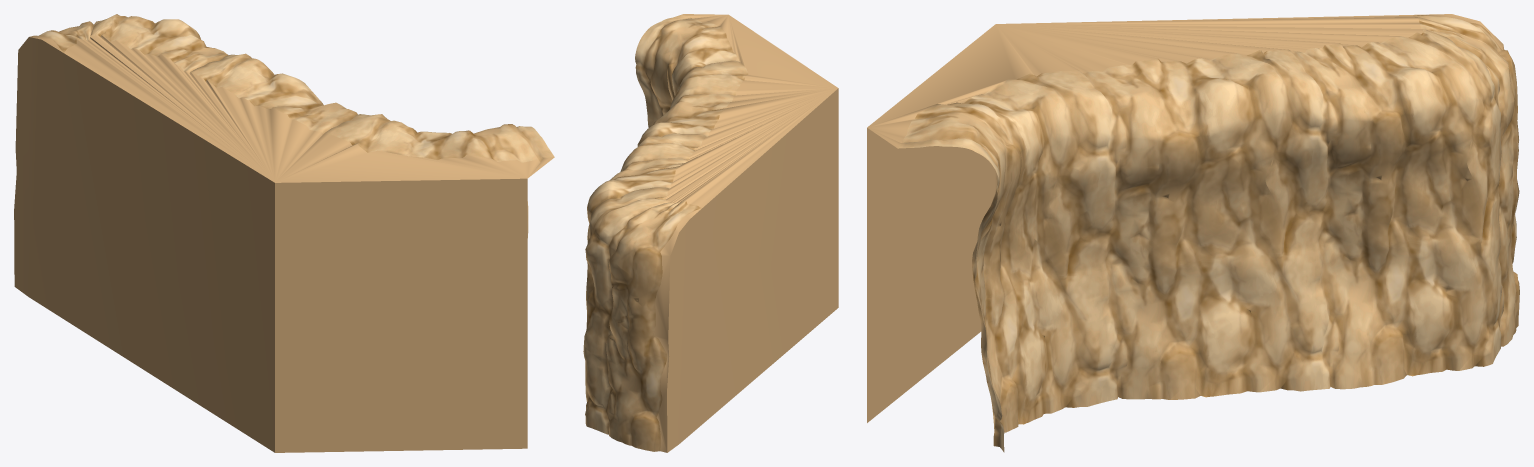
File: SM_ENV_KNFRST_Wall_Ah.FBX
3 views of the same model, side by side, from view 1: azimuth 30°, elevation 25°; view 2: azimuth 150°, elevation 25°; view 3: azimuth 270°, elevation 25° (orthographic). The views are drawn at different scales.
Visible parts, largest first — view 1: SM_ENV_KNFRST_Wall_Ah; view 2: SM_ENV_KNFRST_Wall_Ah; view 3: SM_ENV_KNFRST_Wall_Ah.
Part boxes in pixels (left/top/right/bottom): SM_ENV_KNFRST_Wall_Ah: left=14, top=14, right=554, bottom=452; SM_ENV_KNFRST_Wall_Ah: left=583, top=14, right=838, bottom=452; SM_ENV_KNFRST_Wall_Ah: left=867, top=14, right=1519, bottom=452.
Bounding box in the file's own units: 3223 × 3189 × 6068.
